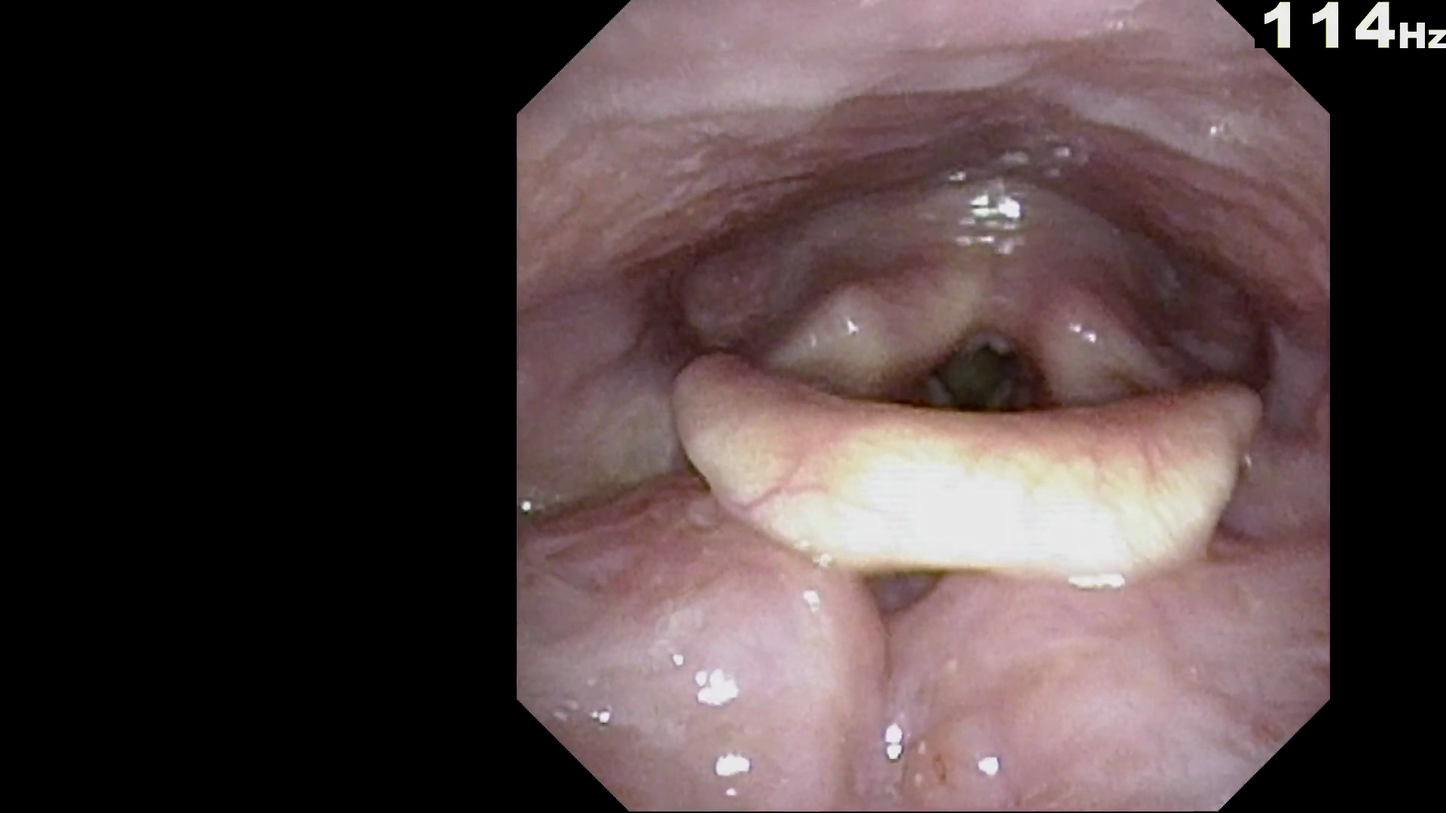epiglottis: (651, 329, 1268, 597)
trachea: (907, 305, 1054, 460)
